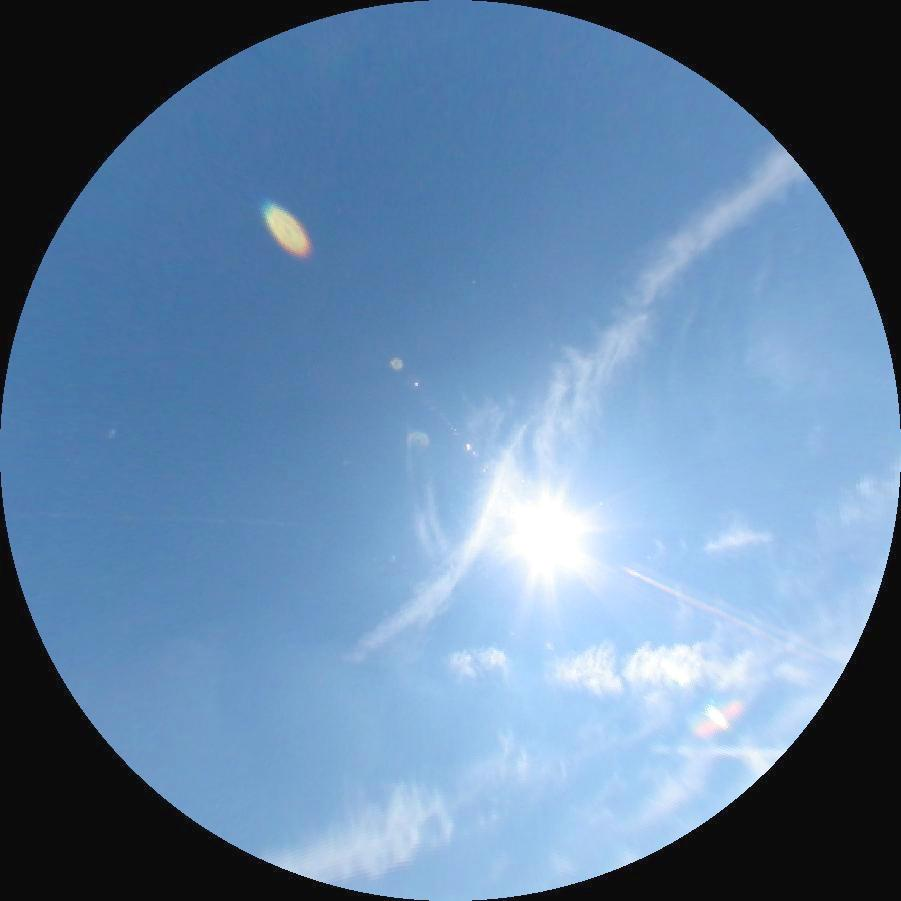contrail veryold: (324, 117, 815, 701)
parasite: (617, 563, 806, 658)
sun: (496, 485, 596, 585)
unknow: (651, 745, 788, 757)
